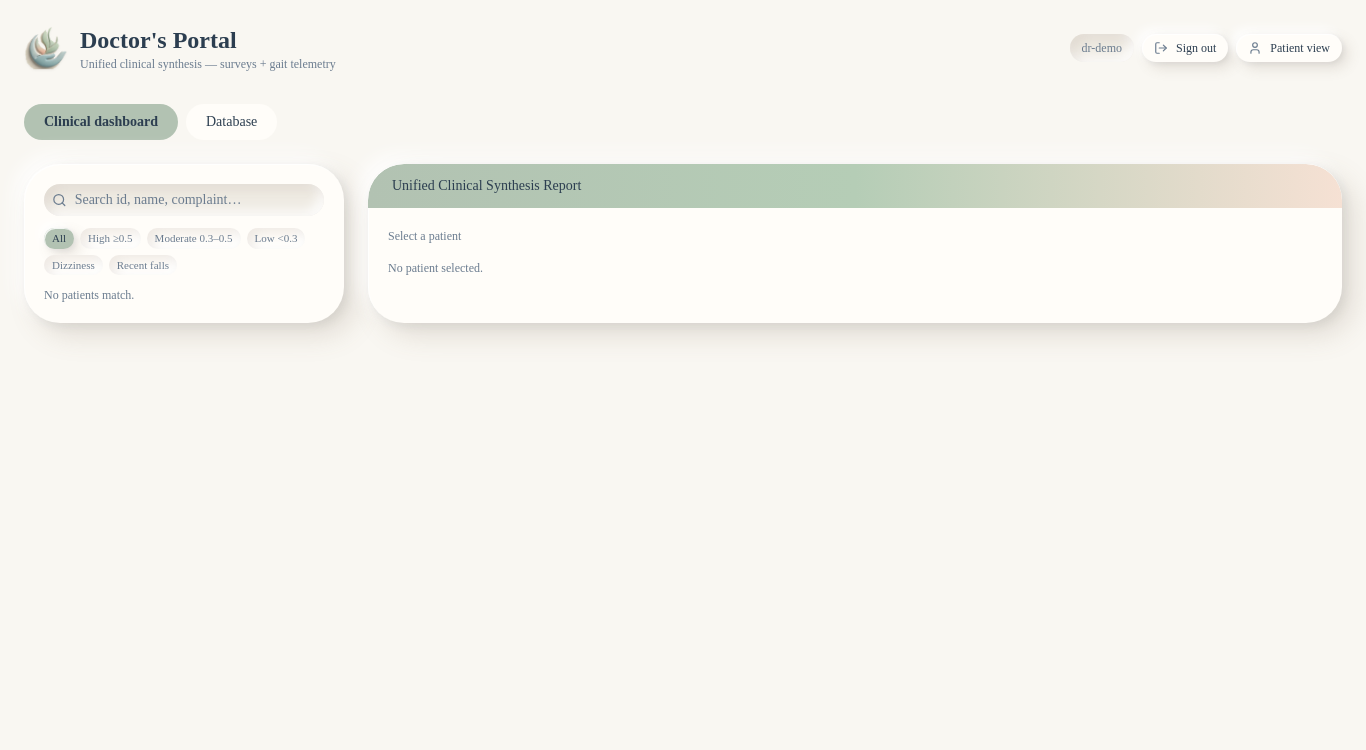
Test: doctor route authentication › opens the protected database tab and removes its records on sign-out
Click the button "Database": (232, 122) [186,104,277,140]
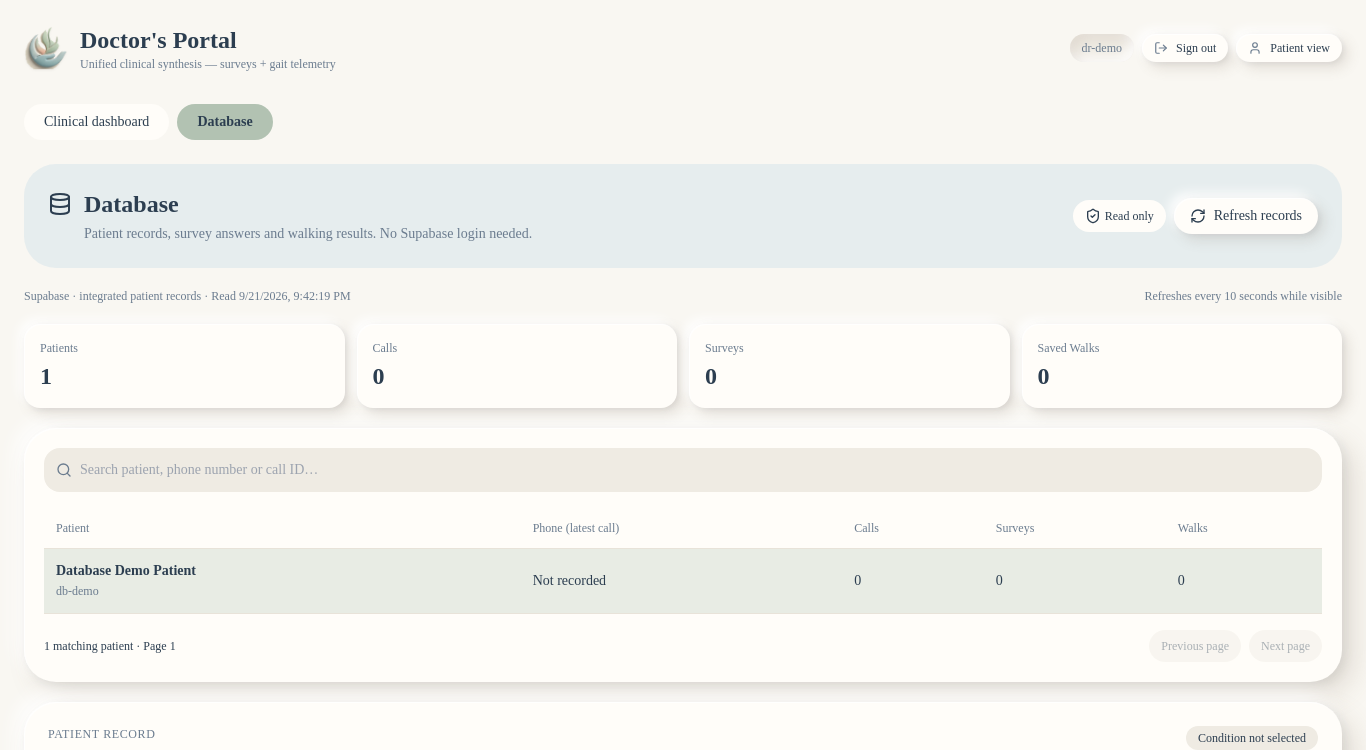
Click the button "Sign out": (1185, 48) [1142,34,1228,62]
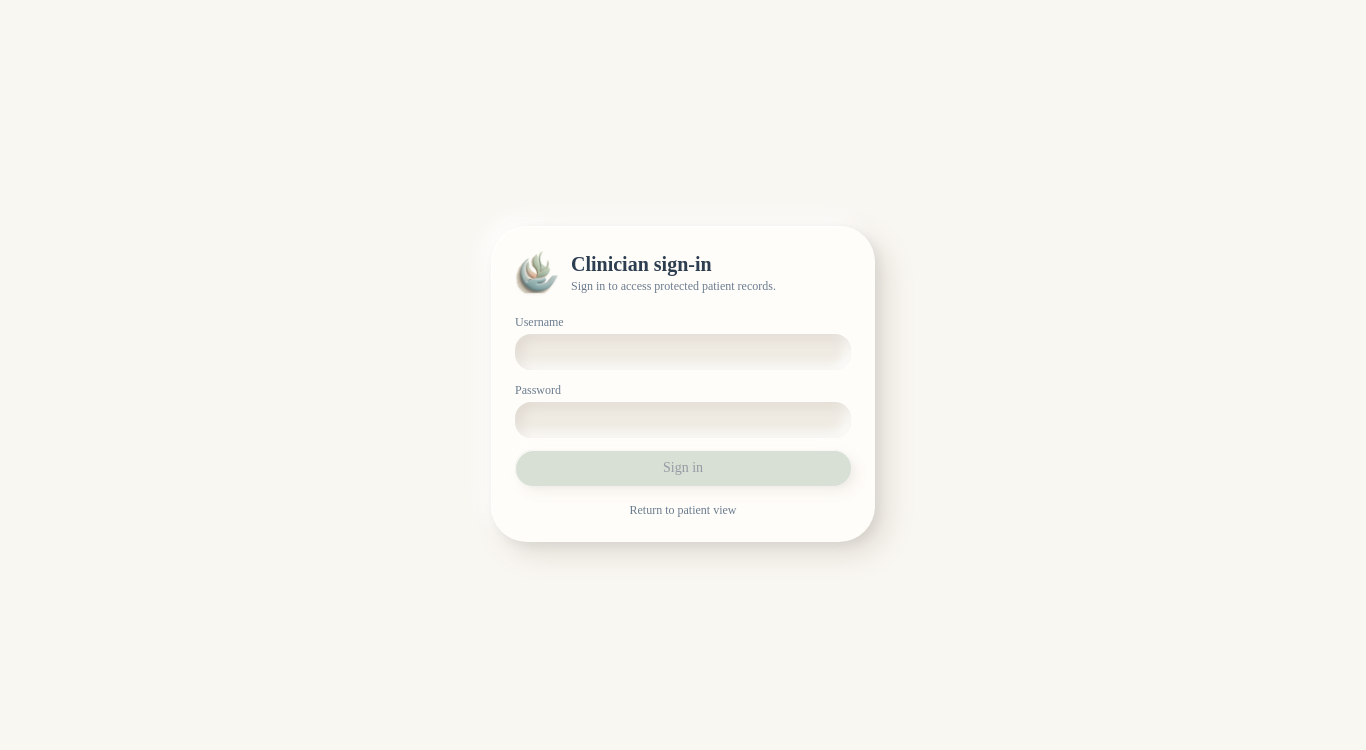
Check: the heading "Clinician sign-in" is shown, box [571,253,712,275]
Check: the button "Database Demo Patient" is gone
Check: the button "Database" is gone
